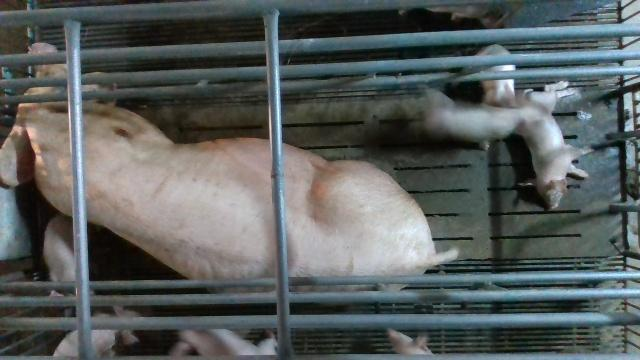piglet: (518, 81, 592, 209), (423, 87, 549, 151), (52, 303, 146, 358), (44, 212, 95, 297), (459, 44, 516, 105), (169, 330, 279, 355)
sow-sit: (2, 41, 458, 290)
